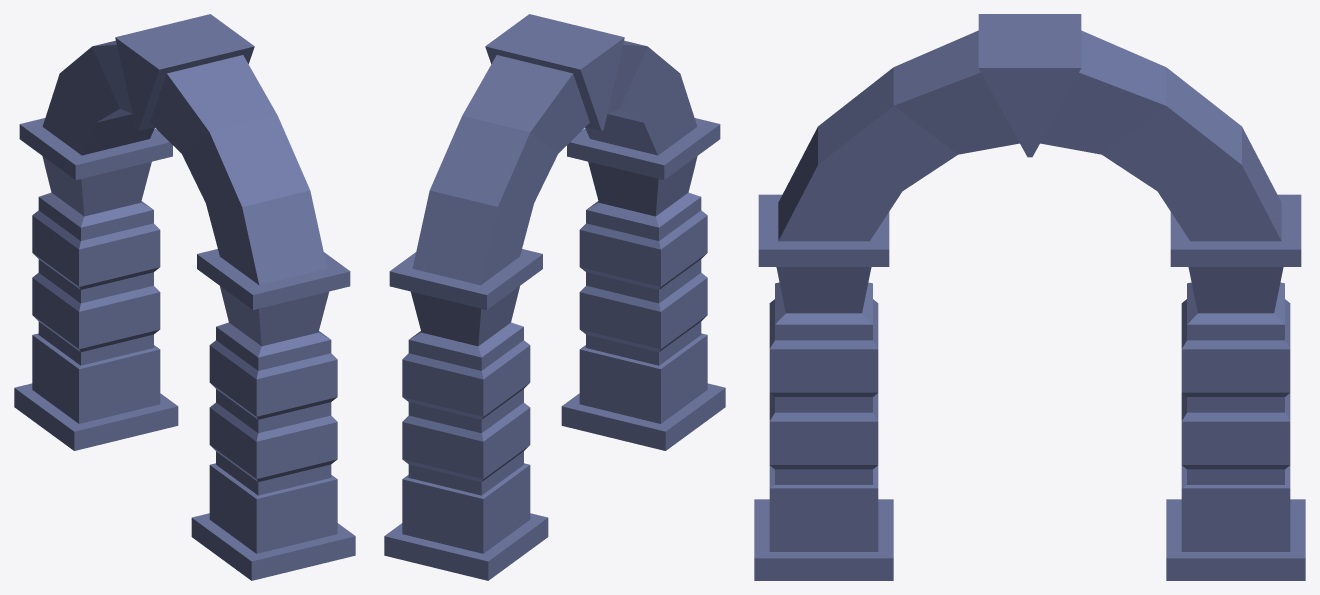
File: arch_2_1.fbx
The picture shows the model from 3 angles, left to right: view 1: azimuth 30°, elevation 25°; view 2: azimuth 150°, elevation 25°; view 3: azimuth 270°, elevation 25°; orthographic projection. The views are drawn at different scales.
Parts seen in each view (by area): view 1: arch_2_1; view 2: arch_2_1; view 3: arch_2_1.
Boxes of the visible parts, box(x1,y1,x2,y2) form: arch_2_1: box(14, 14, 355, 580); arch_2_1: box(384, 14, 725, 580); arch_2_1: box(754, 14, 1305, 580).
Size of the model in its own units: 2.18 by 8.82 by 8.64.
